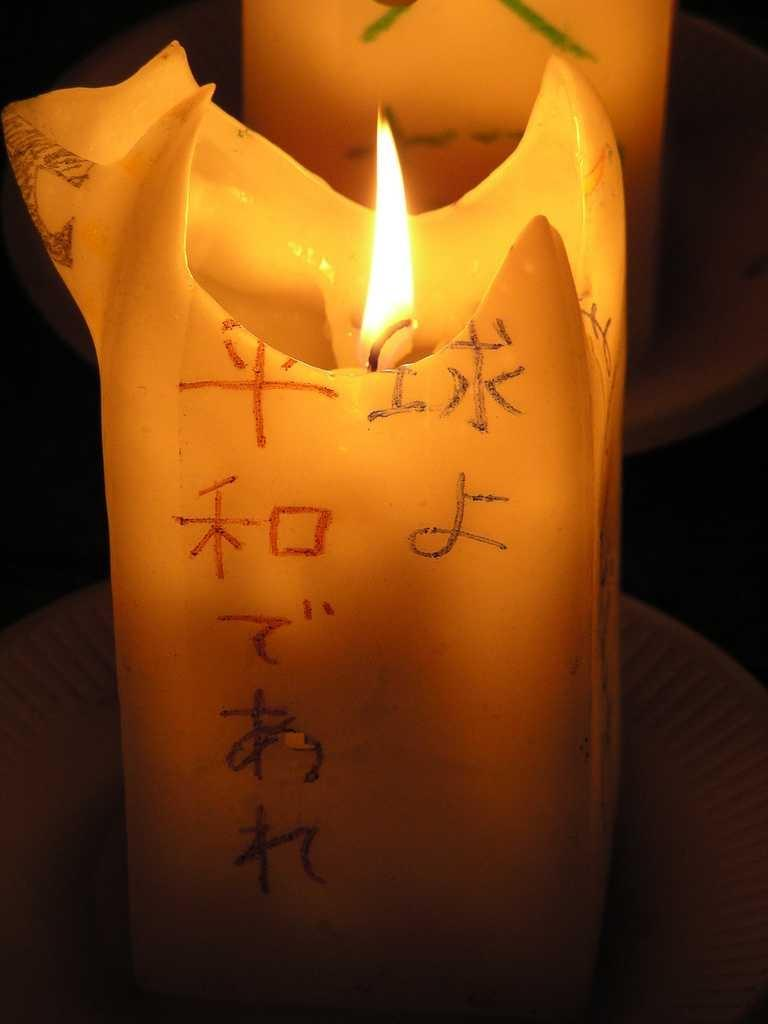fire: (347, 94, 446, 368)
